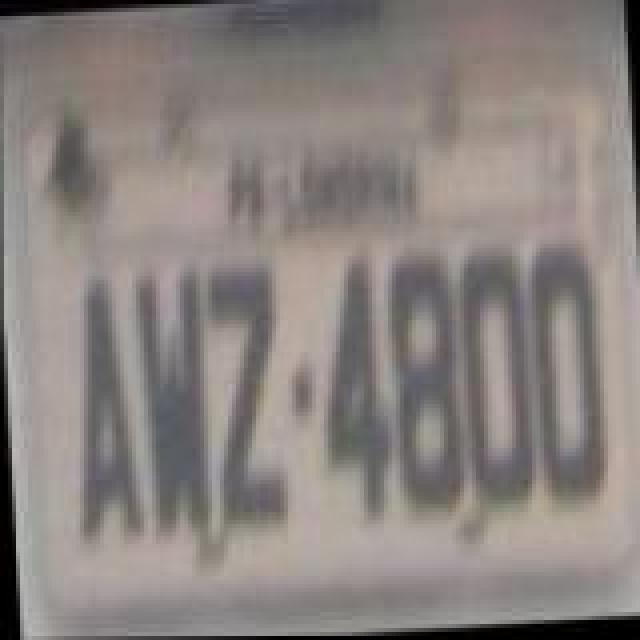4: (314, 250, 394, 526)
8: (384, 254, 468, 514)
A: (64, 272, 148, 556)
O: (524, 238, 608, 502), (456, 244, 540, 504)
W: (134, 270, 214, 542)
Z: (202, 264, 290, 532)
